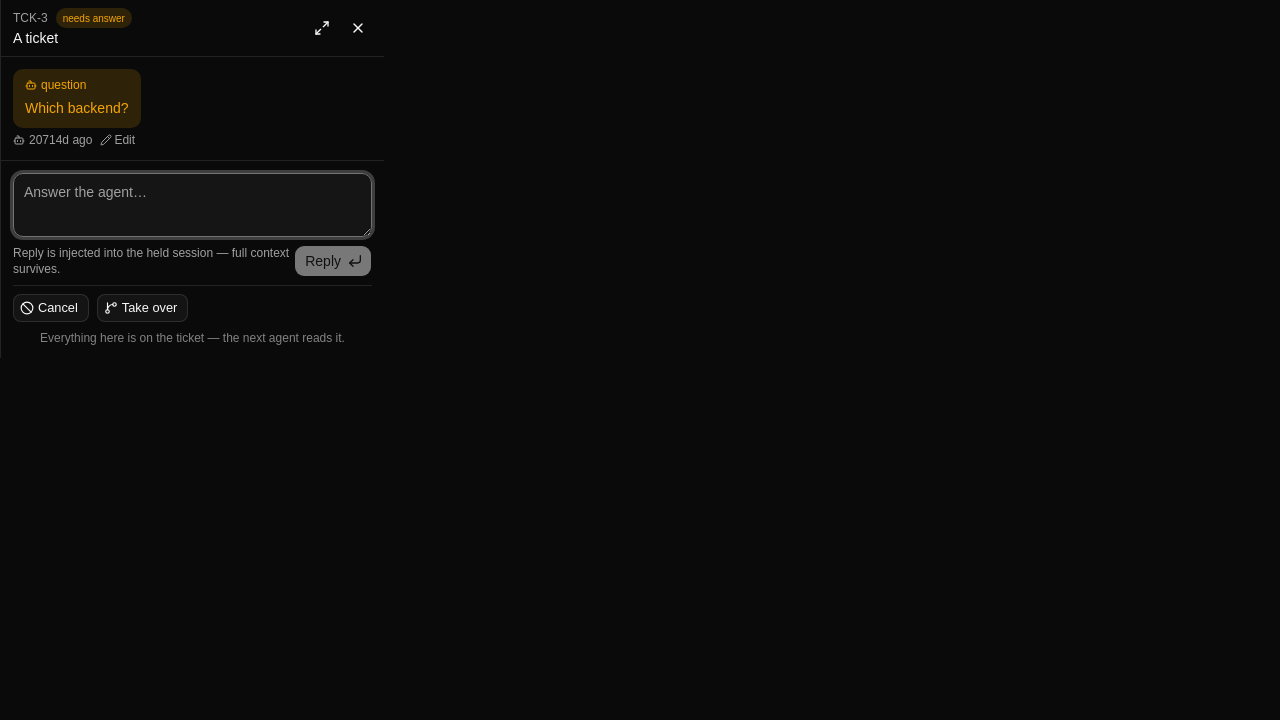
Test: ConversationPanel — actions › cancel opens a confirmation dialog
Click the button "Cancel". click: (51, 308)
box: [13,294,89,322]
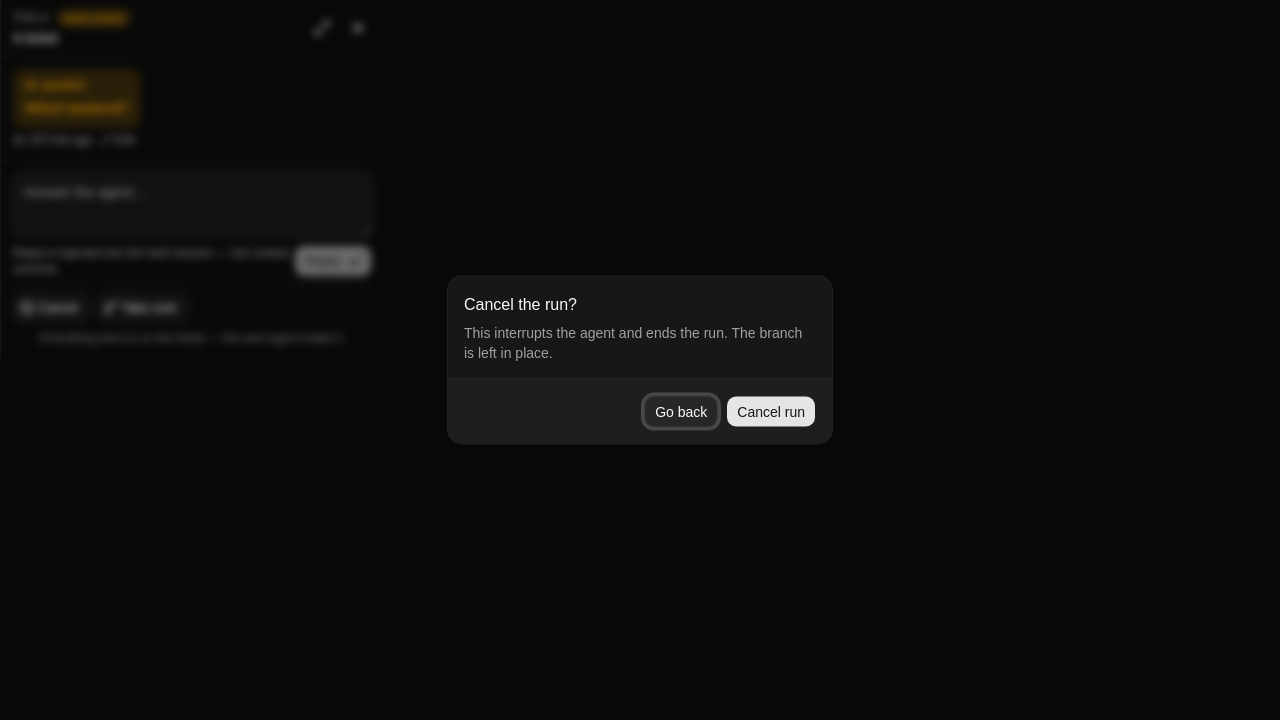
Check: the heading "Cancel the run?" is shown, box [464,292,577,316]
